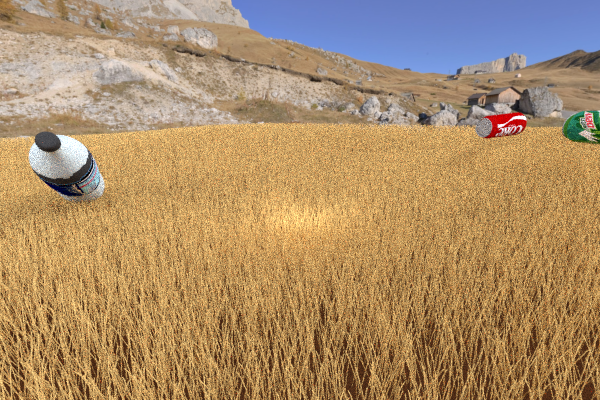bottle: (28, 131, 104, 204)
can: (561, 110, 600, 147), (475, 112, 526, 138)
